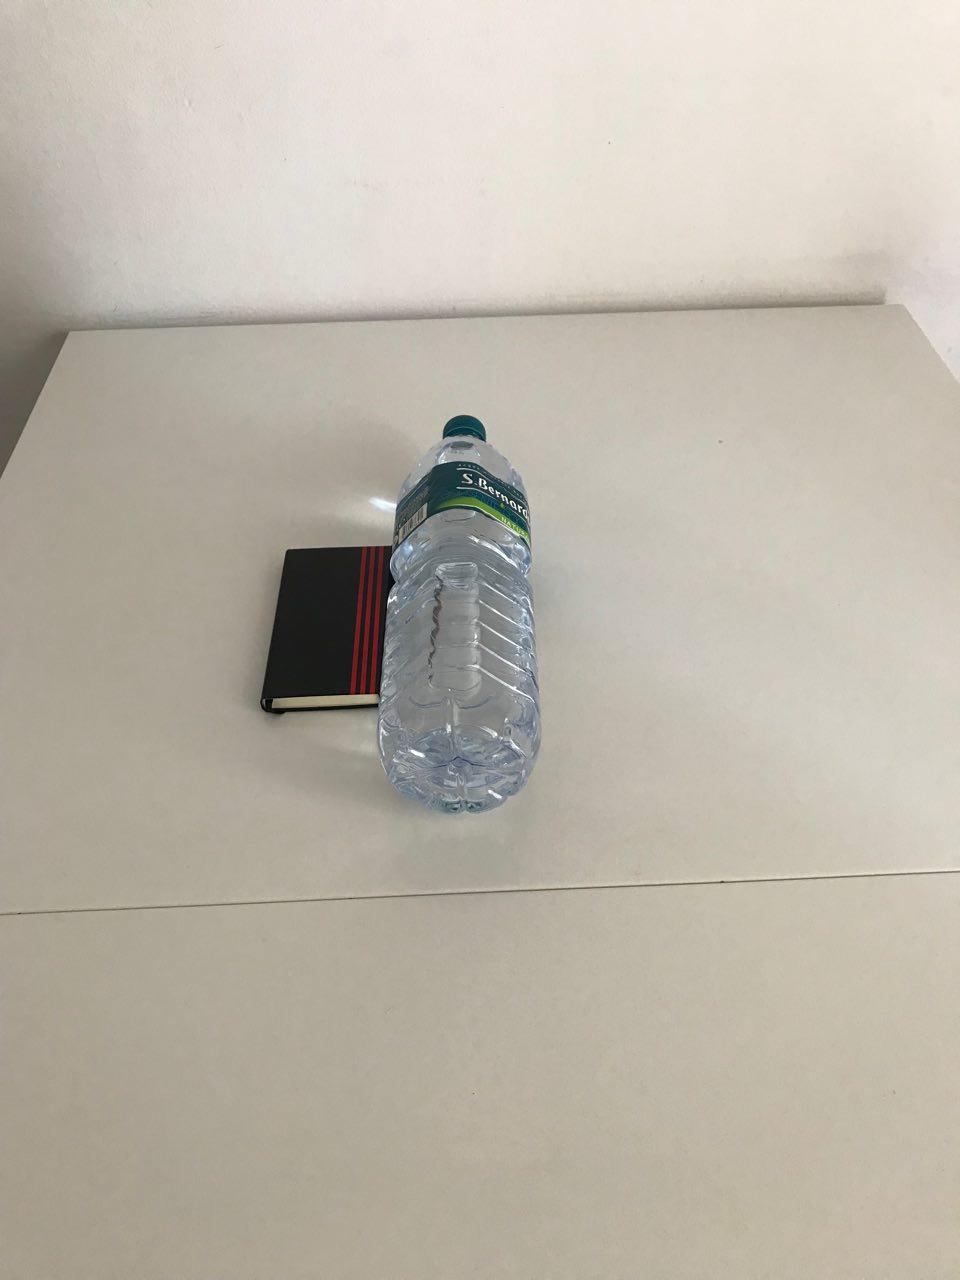san_bernardo: (374, 412, 543, 816)
